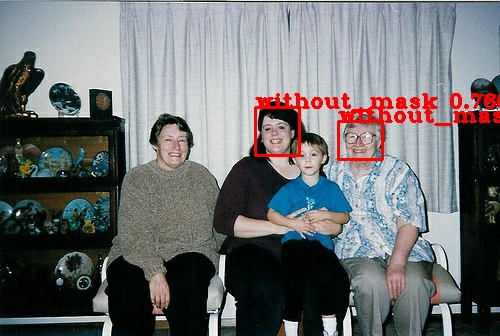without_mask: (151, 118, 193, 171), (341, 118, 388, 162), (257, 112, 298, 156), (291, 134, 332, 176)
